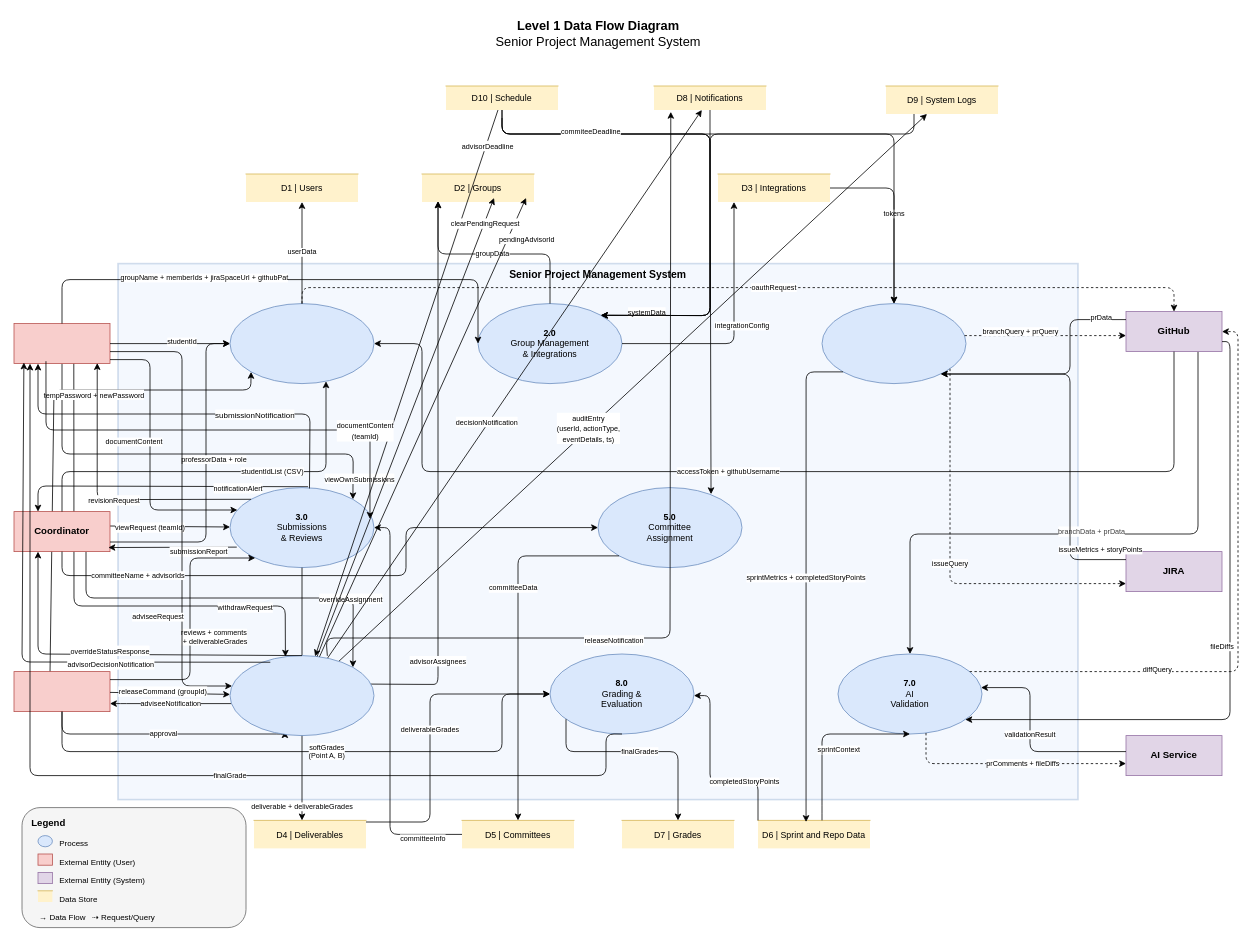
Image size: 1258x942. Some labels were removed from this diagram. Each missing label, with the centre of its shape:
1.0 User Registration & Authentication: (x=301, y=343)
4.0 Advisor Assignment: (x=301, y=695)
6.0 Scrum & Progress Tracking: (x=893, y=343)
Professor / Advisor: (x=61, y=691)
Student: (x=61, y=343)
